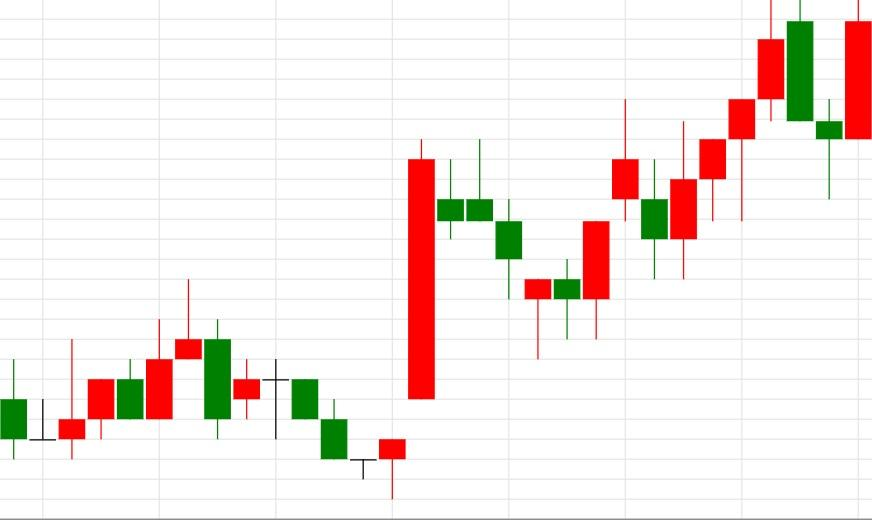bearish_engulfing_fall: (640, 0, 814, 281)
morning_star_rise: (174, 278, 407, 500)
three_white_soldiers_rise: (611, 98, 755, 281)
